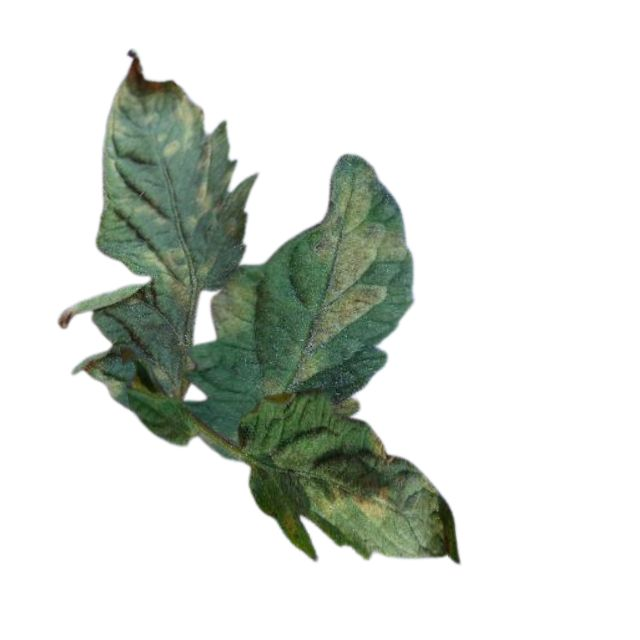Leaf_Mold: (290, 166, 408, 387), (103, 89, 195, 160), (197, 142, 239, 239), (306, 476, 390, 524), (141, 243, 196, 311), (205, 273, 256, 337), (367, 431, 397, 466), (258, 376, 292, 404), (279, 505, 297, 540)
